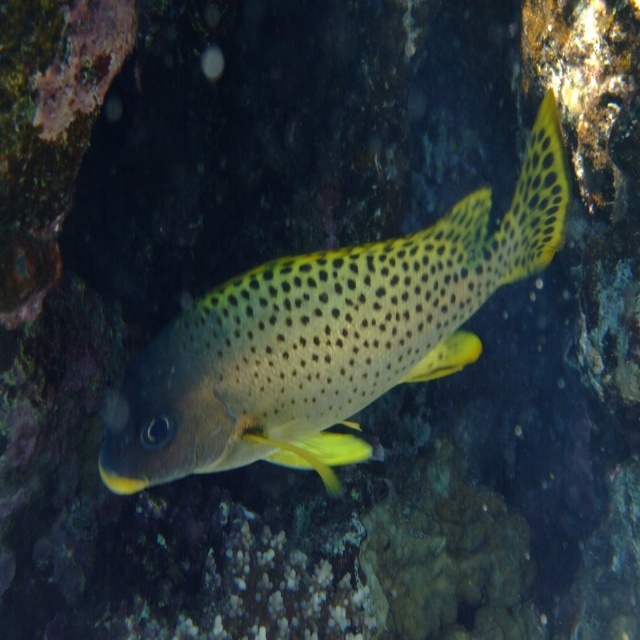Fish: (111, 116, 568, 507)
